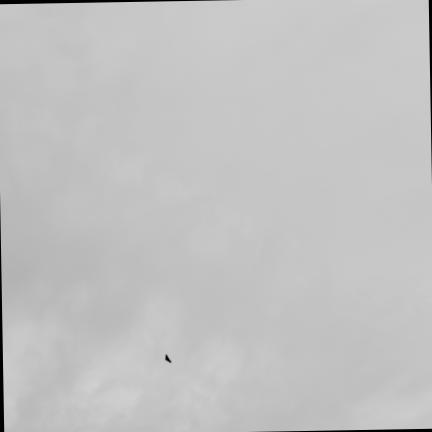Shahed: (164, 354, 171, 363)
